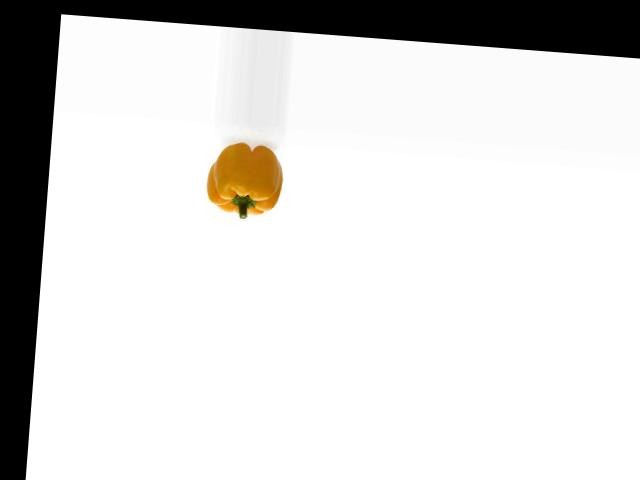bell_pepper: (199, 138, 284, 224)
